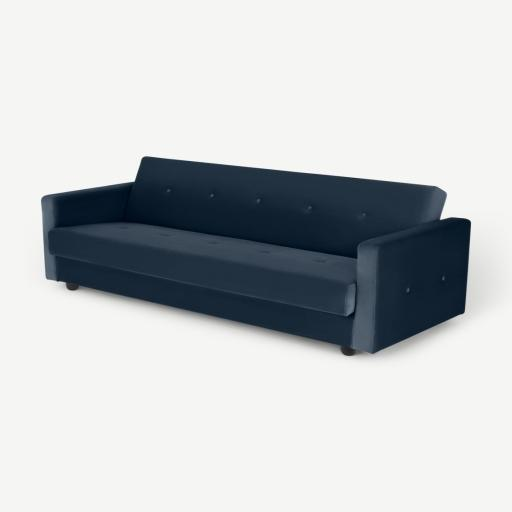back_cushion: (124, 157, 445, 257)
base: (58, 258, 352, 345)
left_arm: (348, 218, 470, 353)
legs: (341, 346, 355, 355), (66, 283, 79, 290)
right_arm: (42, 183, 133, 280)
seat_cushion: (50, 222, 356, 317)
two-seater: (0, 0, 511, 512)
